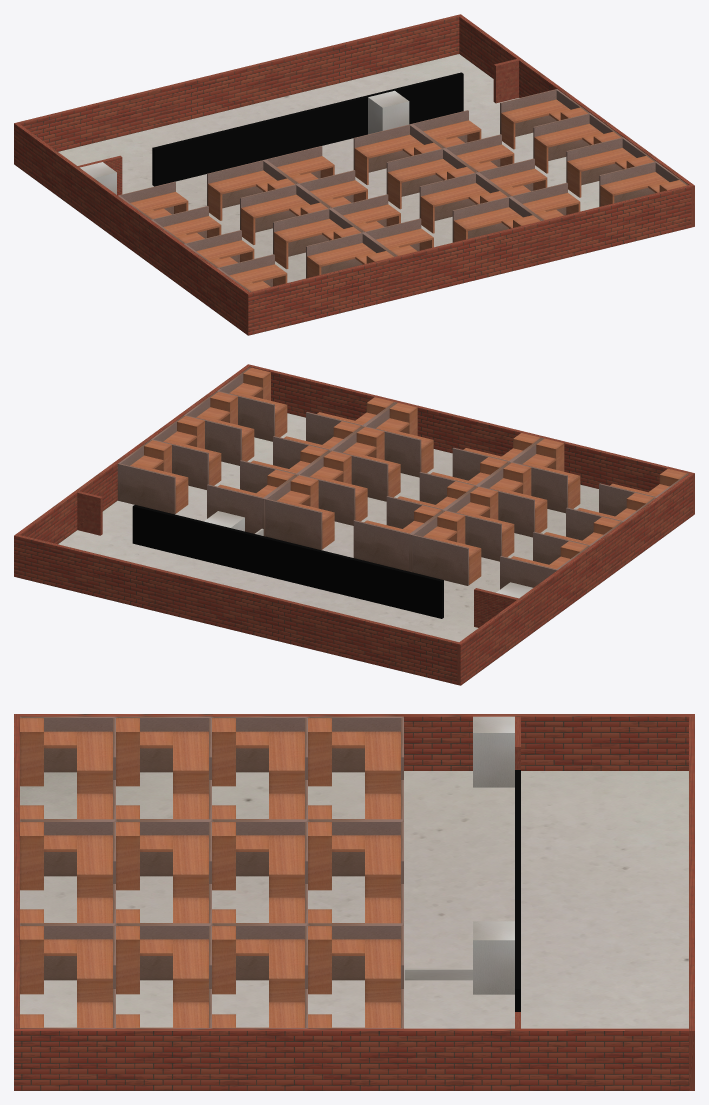
Rendered from office_5.DAE.
3 views of the same model, one above another, from view 1: azimuth 30°, elevation 25°; view 2: azimuth 150°, elevation 25°; view 3: azimuth 270°, elevation 25° (orthographic). The views are drawn at different scales.
Parts seen in each view (by area): view 1: Box010, Box007, Box008, Box015, Box011, Box009, Box155, Box350, Box373, Box359, Box001, Box231 (+45 smaller); view 2: Box008, Box007, Box015, Box011, Box010, Box009, Box283, Box359, Box001, Box215, Box340, Box360 (+33 smaller); view 3: Box007, Box009, Box011, Box155, Box154, Box008, Box253, Box216, Box265, Box259, Box341, Box335 (+61 smaller).
Part boxes in pixels (x1=…): Box010: x1=246, y1=185, x2=691, y2=335; Box007: x1=58, y1=54, x2=599, y2=282; Box008: x1=18, y1=14, x2=462, y2=151; Box015: x1=152, y1=72, x2=463, y2=186; Box011: x1=14, y1=122, x2=249, y2=333; Box009: x1=459, y1=15, x2=694, y2=227; Box155: x1=368, y1=90, x2=409, y2=134; Box350: x1=386, y1=148, x2=442, y2=196; Box373: x1=419, y1=173, x2=475, y2=220; Box359: x1=353, y1=124, x2=409, y2=172; Box001: x1=500, y1=89, x2=556, y2=136; Box231: x1=533, y1=113, x2=589, y2=160; Box008: x1=14, y1=534, x2=458, y2=684; Box007: x1=58, y1=413, x2=598, y2=641; Box015: x1=132, y1=505, x2=443, y2=618; Box011: x1=457, y1=474, x2=692, y2=685; Box010: x1=250, y1=365, x2=694, y2=515; Box009: x1=16, y1=364, x2=251, y2=544; Box283: x1=412, y1=534, x2=468, y2=585; Box359: x1=266, y1=498, x2=322, y2=550; Box001: x1=119, y1=463, x2=175, y2=514; Box215: x1=353, y1=520, x2=409, y2=571; Box340: x1=207, y1=484, x2=262, y2=533; Box360: x1=365, y1=426, x2=421, y2=477; Box007: x1=20, y1=771, x2=688, y2=1028; Box009: x1=14, y1=1028, x2=688, y2=1090; Box011: x1=20, y1=714, x2=694, y2=770; Box155: x1=473, y1=921, x2=514, y2=994; Box154: x1=473, y1=716, x2=514, y2=787; Box008: x1=689, y1=716, x2=694, y2=1090; Box253: x1=212, y1=820, x2=307, y2=876; Box216: x1=308, y1=820, x2=403, y2=876; Box265: x1=116, y1=820, x2=211, y2=876; Box259: x1=20, y1=820, x2=115, y2=876; Box341: x1=308, y1=924, x2=403, y2=980; Box335: x1=212, y1=924, x2=307, y2=980.
Bounding box in the file's own units: 1249 × 1134 × 110.
Materials: 7 (6 with a texture image).
